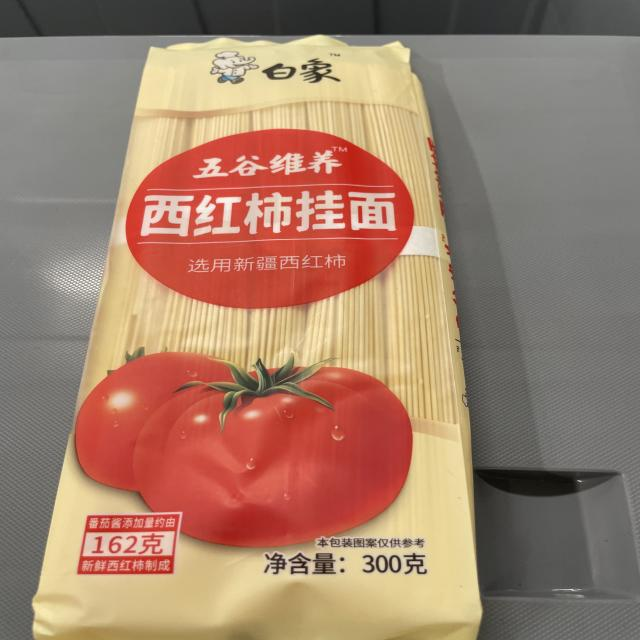object_name: (81, 52, 450, 640)
